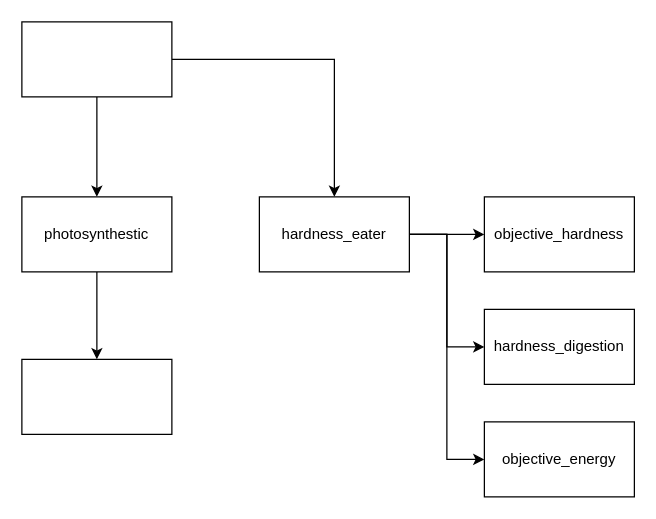
Image size: 656x519. Some labels were removed from this diagram. The centre of each missing label's shape, as x and y in pixels:
"distance_to_sun" goes at [96,396].
"eat" goes at [96,59].
